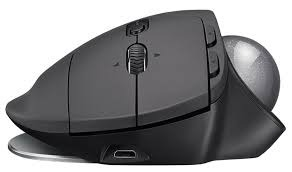mouse: (5, 6, 288, 164)
